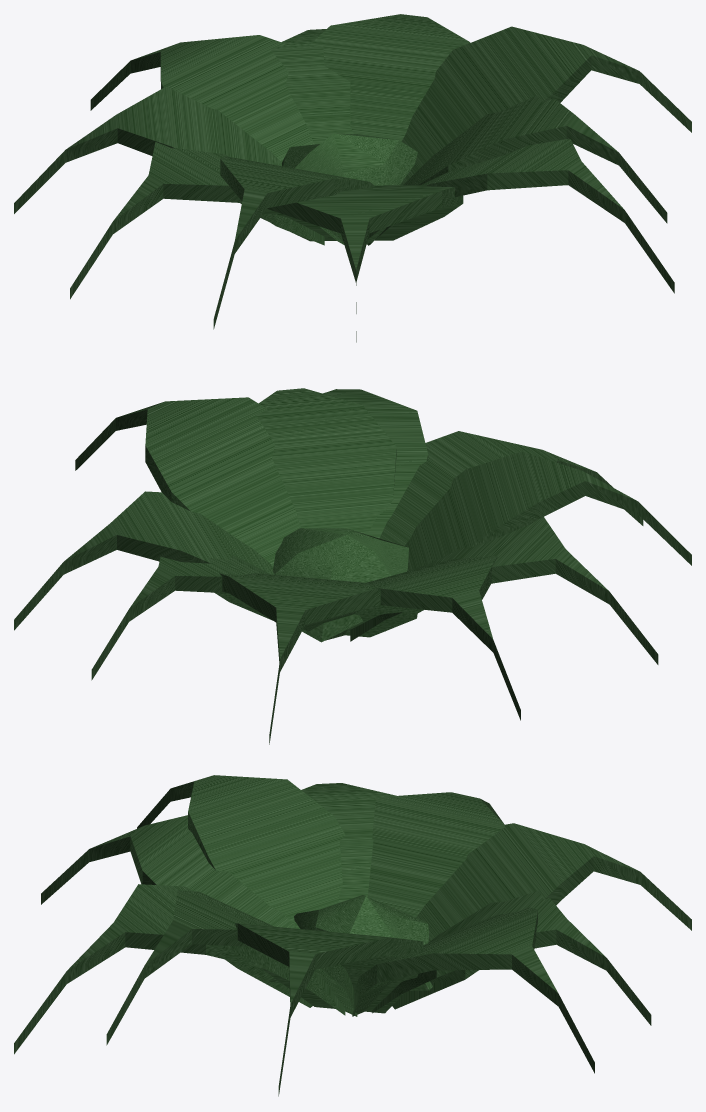
Rendered from fern_0.glb.
3 views of the same model, one above another, from view 1: azimuth 30°, elevation 25°; view 2: azimuth 150°, elevation 25°; view 3: azimuth 270°, elevation 25° (orthographic).
Visible parts, largest first — view 1: fern_0; view 2: fern_0; view 3: fern_0.
Boxes of the visible parts, x1,y1,x2,y2 form: fern_0: [14, 14, 691, 342]; fern_0: [14, 388, 691, 744]; fern_0: [14, 775, 691, 1096].
Bounding box in the file's own units: 1.97 × 0.4585 × 1.89.
1 material, 1 textured.
